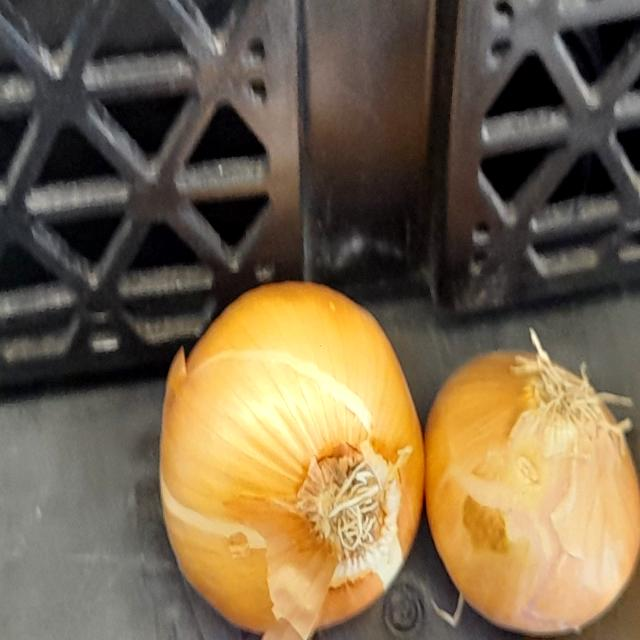onion: (147, 265, 425, 640), (419, 332, 640, 634)
